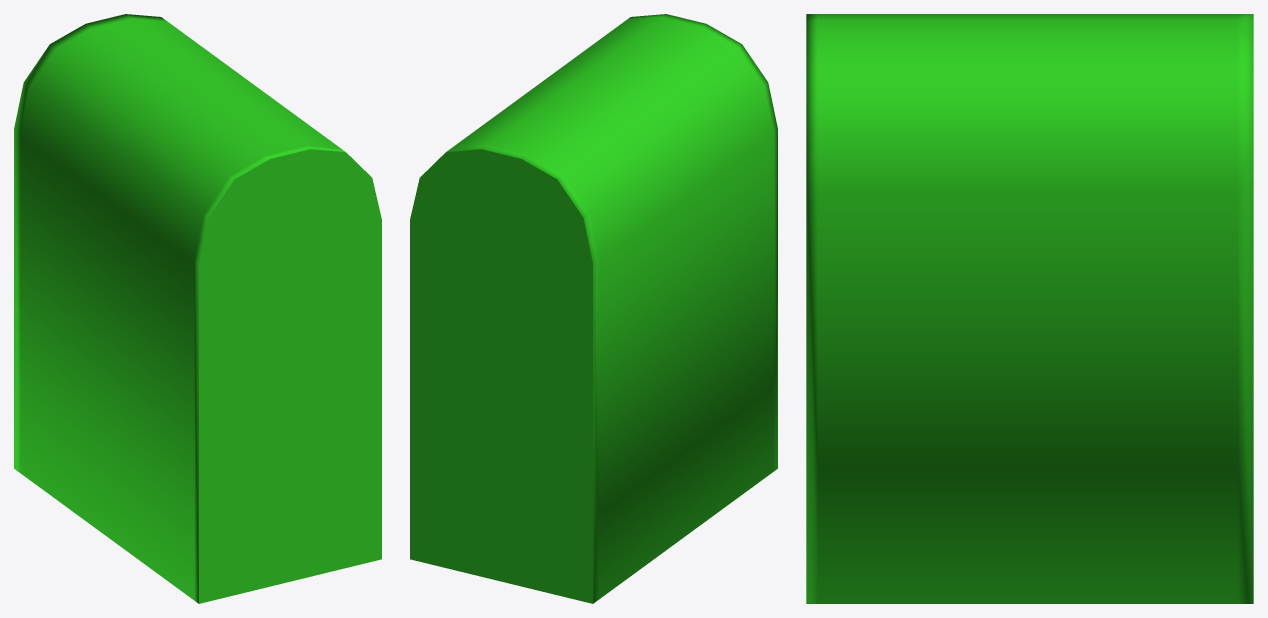
The model's file is NormalContent.fbx.
3 views of the same model, side by side, from view 1: azimuth 30°, elevation 25°; view 2: azimuth 150°, elevation 25°; view 3: azimuth 270°, elevation 25° (orthographic). The views are drawn at different scales.
Parts seen in each view (by area): view 1: Model; view 2: Model; view 3: Model.
Boxes of the visible parts, <box> form: Model: <box>14,14,381,603</box>; Model: <box>410,14,777,603</box>; Model: <box>806,14,1253,603</box>.
Size of what is drawn, in the model's own units: 0.3575 by 0.7985 by 0.6258.
